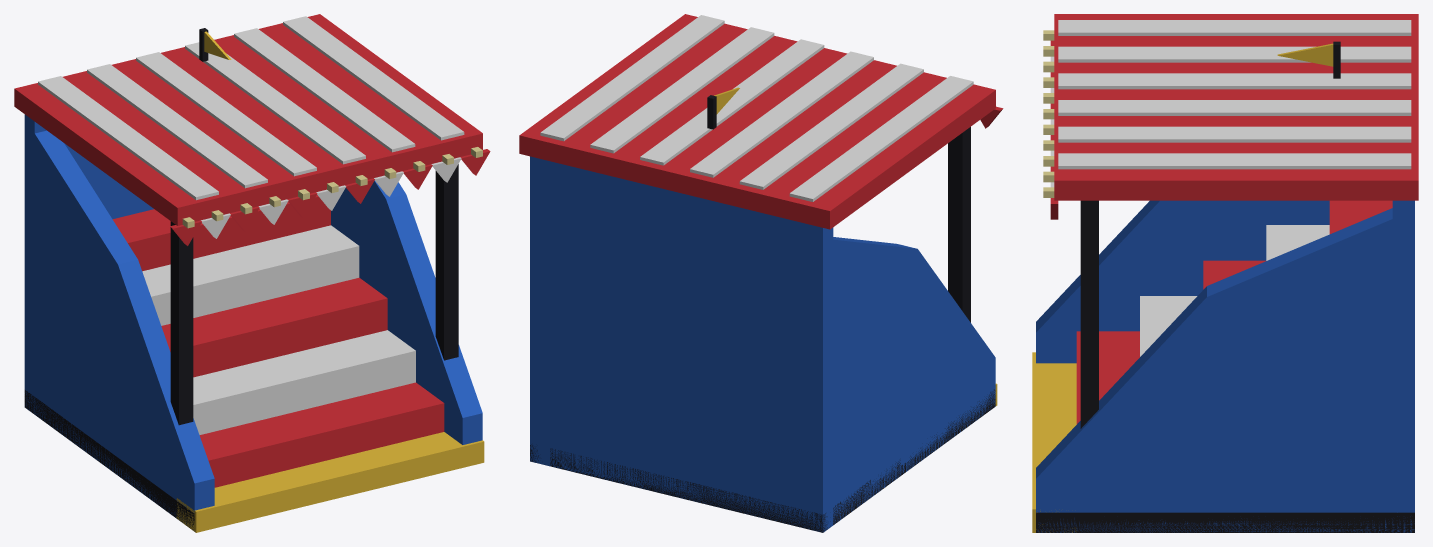
Rendered from stand.glb.
The picture shows the model from 3 angles, left to right: view 1: azimuth 30°, elevation 25°; view 2: azimuth 150°, elevation 25°; view 3: azimuth 270°, elevation 25°; orthographic projection. The views are drawn at different scales.
Visible parts, largest first — view 1: funfair-stand; view 2: funfair-stand; view 3: funfair-stand.
Part boxes in pixels (<box>): funfair-stand: <box>14,14,490,532</box>; funfair-stand: <box>519,14,1003,532</box>; funfair-stand: <box>1032,14,1418,532</box>.
Size of the model in its own units: 1.1 by 1.22 by 1.04.
